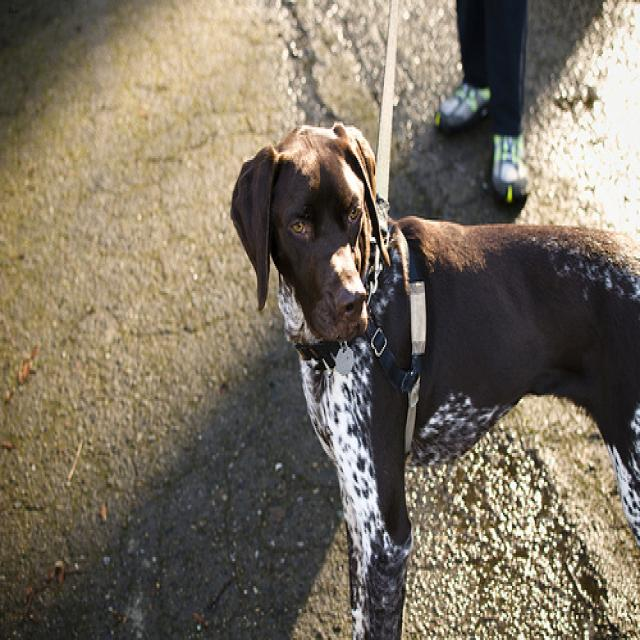dog-german_shorthaired: (225, 114, 637, 636)
